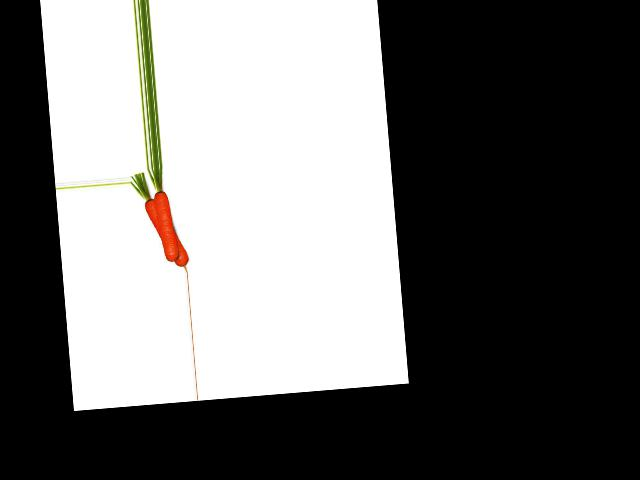carrot: (143, 190, 188, 274)
